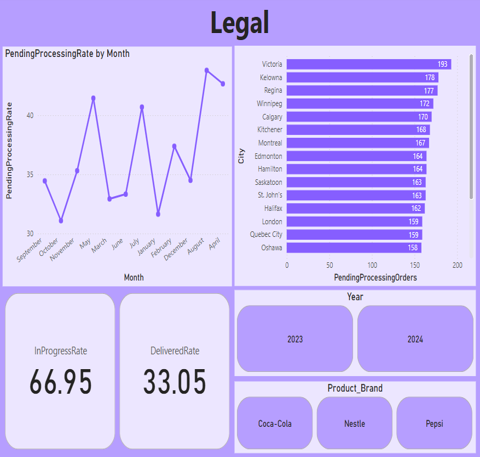

This screenshot's page, from the dashboard's own definition file:
{"tool":"powerbi","page":{"name":"Legal","canvas":[1280,720],"ordinal":6},"visuals":[{"type":"shape","box":[9.6,0,306,720.4],"z":0},{"type":"textbox","box":[315.6,0,964.7,76.8],"z":1000},{"type":"textbox","box":[26.1,38.4,275.8,96.1],"z":2000},{"type":"pageNavigator","box":[62.7,150.9,200.9,561.8],"z":3000},{"type":"lineChart","fields":{"Y":["cleaned_new_retail_data.PendingProcessingRate"],"Category":["cleaned_new_retail_data.Month"]},"box":[322,78,460,374],"z":4000},{"type":"barChart","fields":{"Y":["cleaned_new_retail_data.PendingProcessingOrders"],"Category":["cleaned_new_retail_data.City"]},"box":[788.3,77.5,484.2,375],"z":5000},{"type":"advancedSlicerVisual","fields":{"Values":["cleaned_new_retail_data.Year"]},"box":[788,458,484,134],"z":6000},{"type":"advancedSlicerVisual","fields":{"Values":["cleaned_new_retail_data.Product_Brand"]},"box":[788,601,484,112],"z":7000},{"type":"cardVisual","fields":{"Data":["cleaned_new_retail_data.InProgressRate","cleaned_new_retail_data.DeliveredRate"]},"box":[322,458,460,254],"z":8000}]}

Visuals, with their boxes on the page's 1280x720 design canvas (x1, y1, x2, y2). These are canvas units, not pixel positions in the 480x457 screenshot, which may show the page scaled, cropped or inside an application window:
shape: crop(10, 0, 316, 720)
textbox: crop(316, 0, 1280, 77)
textbox: crop(26, 38, 302, 134)
pageNavigator: crop(63, 151, 264, 713)
lineChart - cleaned_new_retail_data.PendingProcessingRate x cleaned_new_retail_data.Month: crop(322, 78, 782, 452)
barChart - cleaned_new_retail_data.PendingProcessingOrders x cleaned_new_retail_data.City: crop(788, 78, 1272, 452)
advancedSlicerVisual - cleaned_new_retail_data.Year: crop(788, 458, 1272, 592)
advancedSlicerVisual - cleaned_new_retail_data.Product_Brand: crop(788, 601, 1272, 713)
cardVisual - cleaned_new_retail_data.InProgressRate x cleaned_new_retail_data.DeliveredRate: crop(322, 458, 782, 712)
